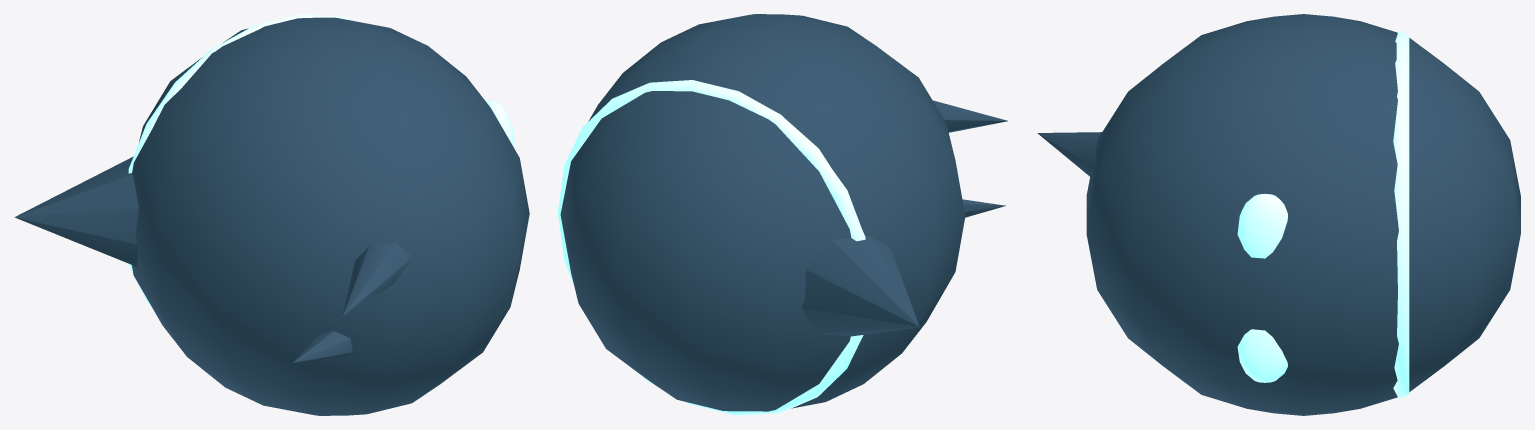
File: trauma-lek.glb
The picture shows the model from 3 angles, left to right: view 1: azimuth 30°, elevation 25°; view 2: azimuth 150°, elevation 25°; view 3: azimuth 270°, elevation 25°; orthographic projection.
Parts seen in each view (by area): view 1: Shadow, Glow; view 2: Shadow, Glow; view 3: Shadow, Glow.
Part boxes in pixels (box(x1,y1,x2,y2)): Shadow: box(14, 17, 529, 415); Glow: box(128, 14, 514, 306); Shadow: box(560, 14, 1007, 411); Glow: box(558, 80, 865, 415); Shadow: box(1037, 14, 1520, 415); Glow: box(1237, 31, 1409, 398).
Bounding box in the file's own units: 0.9919 × 0.84 × 1.
